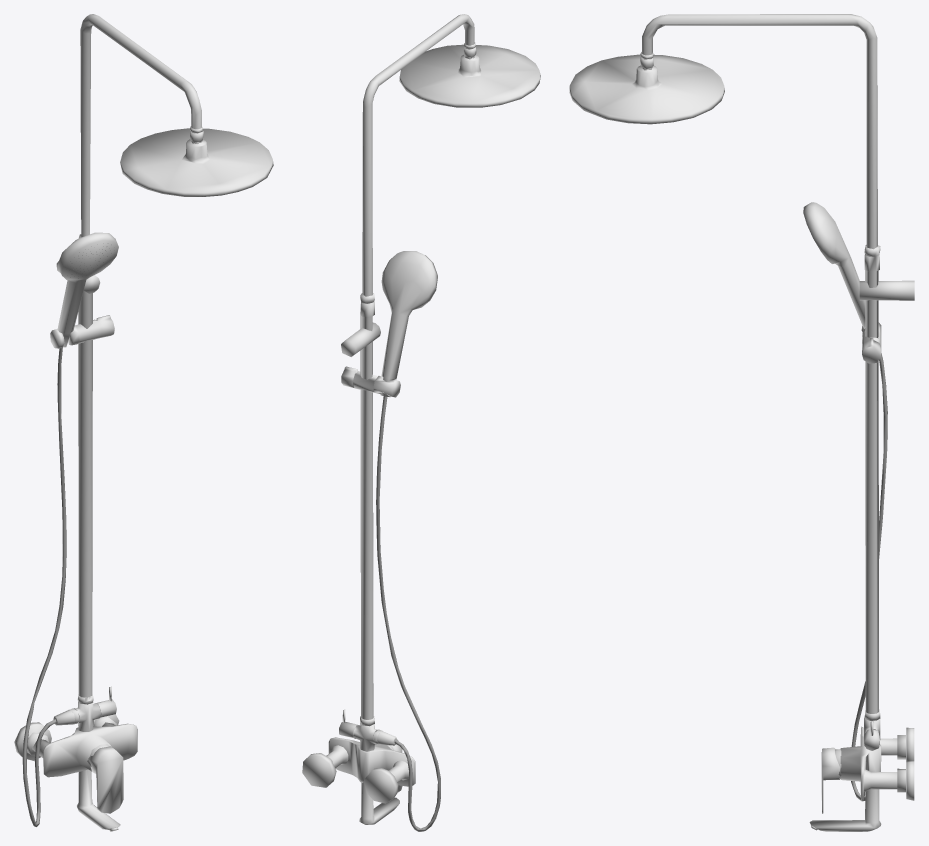
Rendered from nozzle.fbx.
3 views of the same model, side by side, from view 1: azimuth 30°, elevation 25°; view 2: azimuth 150°, elevation 25°; view 3: azimuth 270°, elevation 25° (orthographic). The views are drawn at different scales.
Visible parts, largest first — view 1: SwitchSphere; view 2: SwitchSphere; view 3: SwitchSphere.
Part boxes in pixels (x1,y1,x2,y2): SwitchSphere: (14,14,273,831); SwitchSphere: (302,14,540,831); SwitchSphere: (569,14,914,831).
Bounding box in the file's own units: 26.3 × 147 × 56.38.
1 material, 1 textured.
